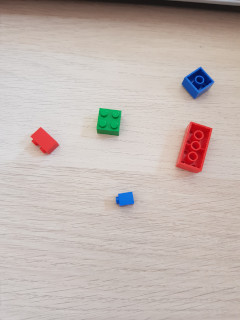1x1 blue: (116, 190, 135, 207)
1x2 red: (30, 126, 60, 157)
2x2 blue: (181, 67, 215, 99)
2x2 green: (96, 107, 122, 136)
2x4 red: (176, 121, 212, 176)
